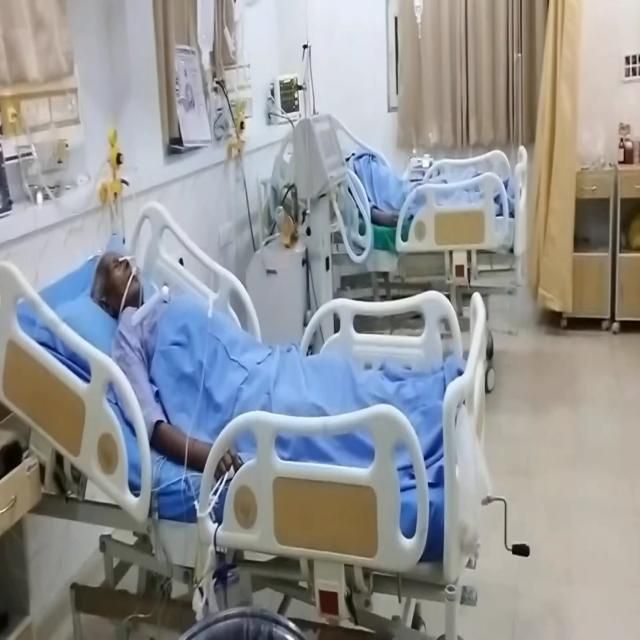Movement-NO: (82, 222, 248, 440)
